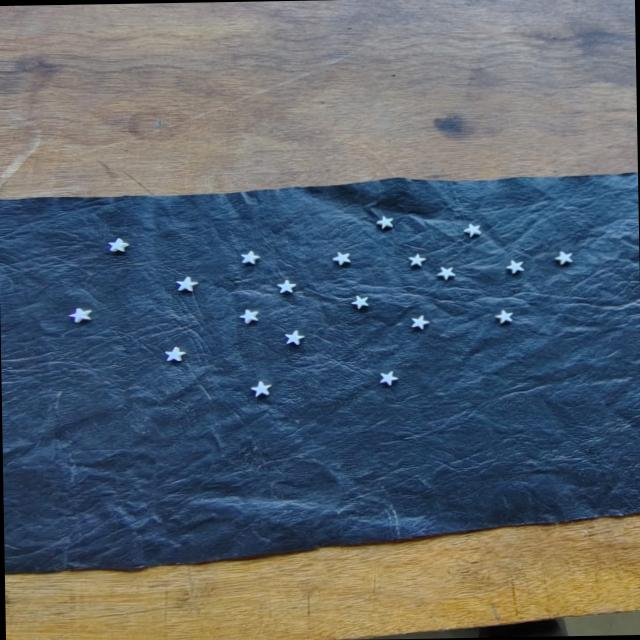estrellas: (250, 381, 269, 396), (284, 330, 303, 344), (165, 347, 183, 360)
